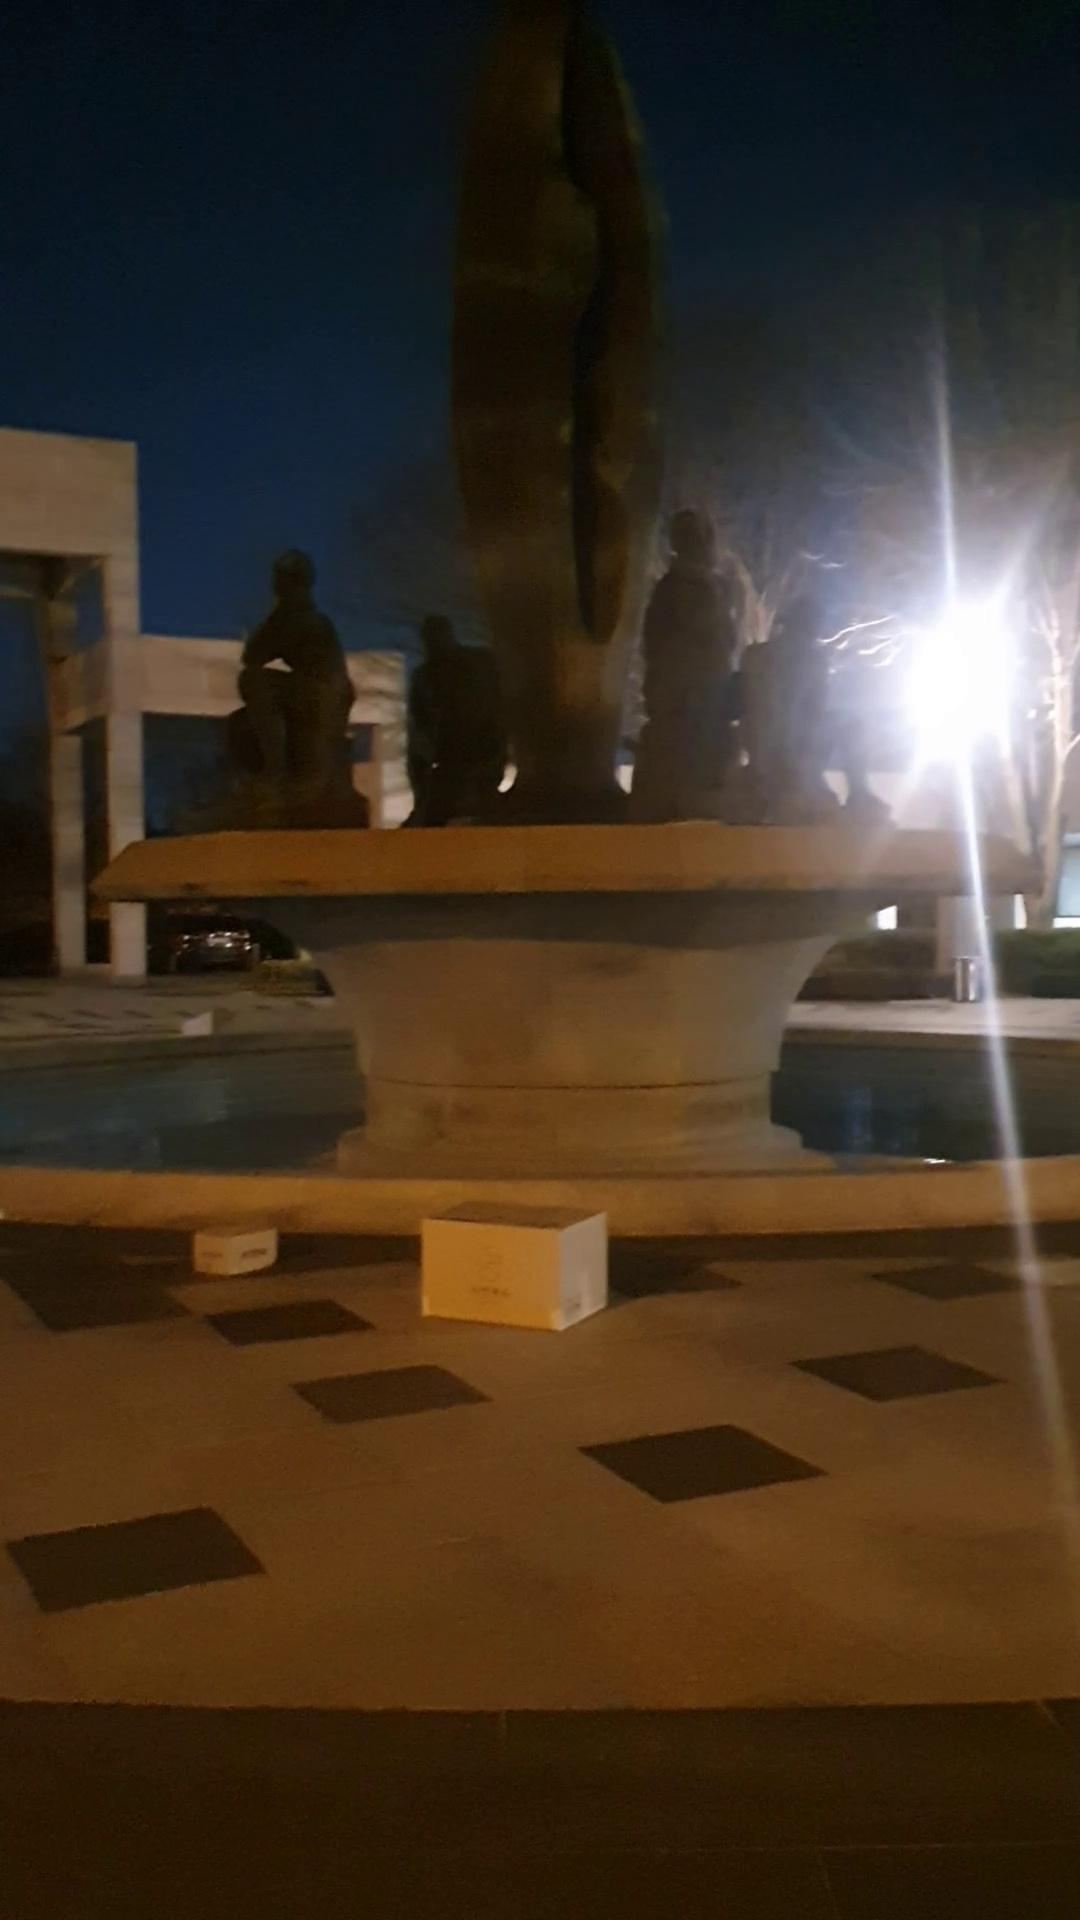Box: (421, 1193, 618, 1338), (175, 1208, 295, 1283)
